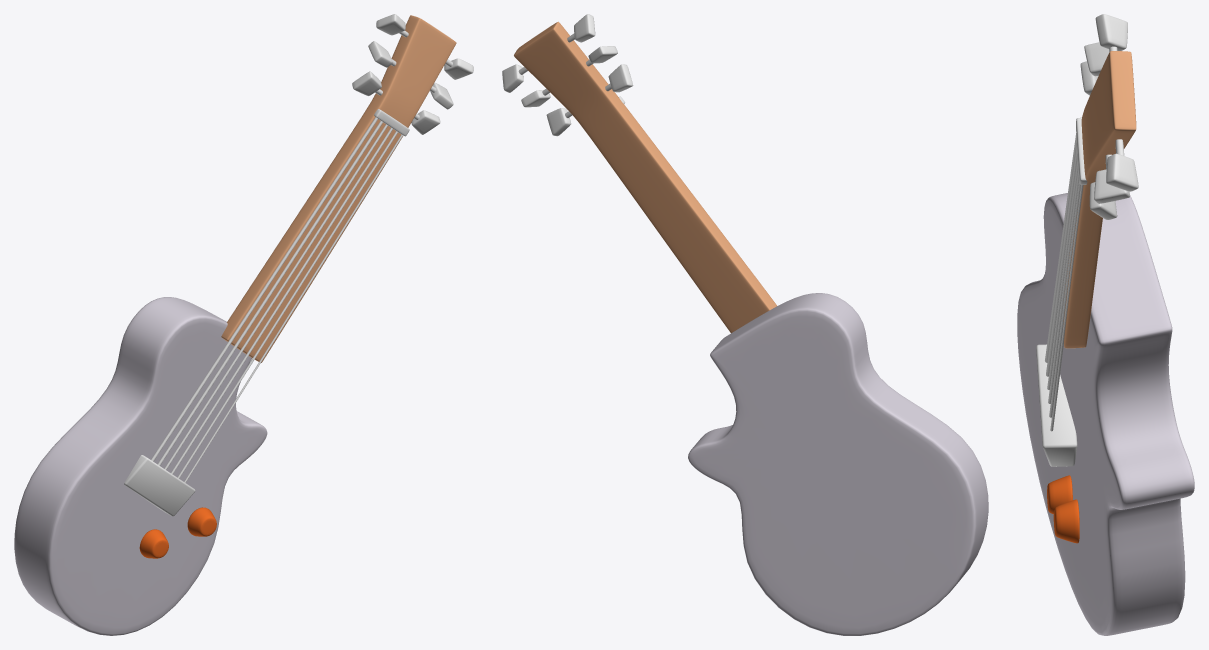
File: Guitar.glb
3 renders of one model, left to right at view 1: azimuth 30°, elevation 25°; view 2: azimuth 150°, elevation 25°; view 3: azimuth 270°, elevation 25°, orthographic. The views are drawn at different scales.
Visible parts, largest first — view 1: Body, Guita; view 2: Body, Guita; view 3: Body, Guita.
Boxes of the visible parts, box(x1,y1,x2,y2) form: Body: box(14, 297, 267, 635); Guita: box(124, 14, 473, 558); Body: box(688, 293, 988, 635); Guita: box(502, 14, 776, 332); Body: box(1017, 193, 1194, 635); Guita: box(1036, 14, 1138, 543).
Size of the model in its own units: 1.69 by 1.9 by 0.3862.
